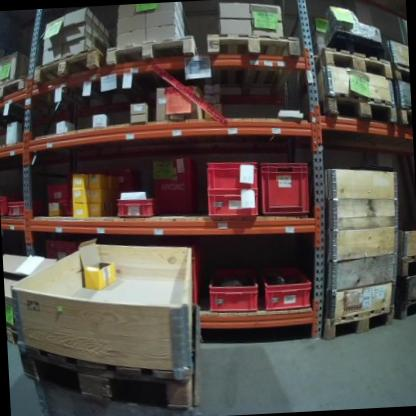pallet: (16, 332, 195, 415), (205, 27, 302, 100), (32, 47, 113, 107), (316, 87, 397, 129), (105, 35, 199, 70), (312, 42, 392, 83), (321, 307, 396, 344), (0, 73, 27, 101), (396, 253, 416, 278), (390, 61, 410, 84), (397, 297, 416, 319), (396, 107, 412, 125), (6, 328, 20, 347)
small_load_carrier: (259, 157, 311, 216), (261, 262, 316, 316), (153, 153, 200, 214), (207, 263, 261, 314), (202, 155, 260, 192), (206, 189, 262, 220), (112, 195, 155, 222), (6, 196, 46, 220), (0, 196, 10, 219)
